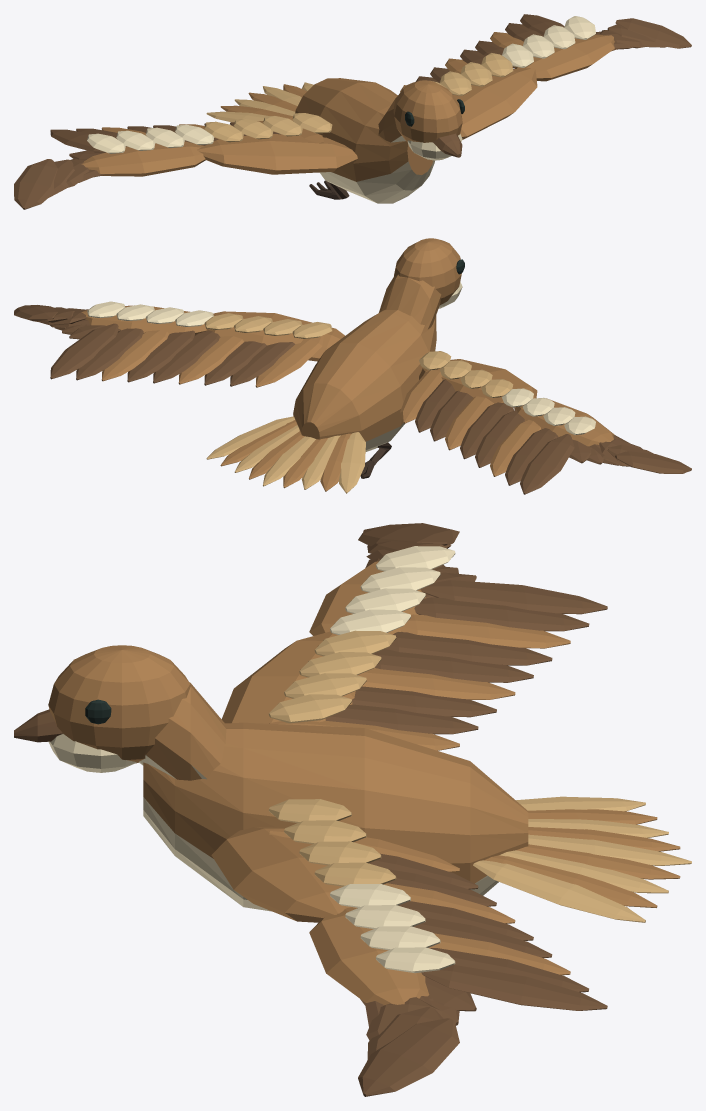
The model's file is sapeornis.glb.
3 renders of one model, top to bottom at view 1: azimuth 30°, elevation 25°; view 2: azimuth 150°, elevation 25°; view 3: azimuth 270°, elevation 25°, orthographic. The views are drawn at different scales.
Visible parts, largest first — view 1: feathered-body, left-wing-arm, head, right-wing-arm, left-wing-hand, right-wing-hand, left-primary-6, right-primary-6, left-secondary-8, neck, left-covert-0, left-covert-1 (+27 smaller); view 2: feathered-body, head, neck, left-secondary-8, right-wing-arm, right-secondary-8, right-secondary-0, right-secondary-7, right-secondary-4, right-secondary-5, right-secondary-6, left-wing-hand (+40 smaller); view 3: feathered-body, head, right-wing-arm, right-wing-hand, neck, right-primary-6, left-wing-arm, right-secondary-8, left-secondary-8, tail-fan-8, left-secondary-7, left-secondary-6 (+45 smaller).
Part boxes in pixels (x1,y1,x2,y2): feathered-body: (295, 78, 434, 203); left-wing-arm: (197, 134, 357, 174); head: (393, 80, 462, 142); right-wing-arm: (453, 67, 537, 139); left-wing-hand: (81, 141, 205, 176); right-wing-hand: (514, 34, 614, 81); left-primary-6: (14, 159, 57, 209); right-primary-6: (615, 18, 691, 48); left-secondary-8: (50, 129, 105, 152); neck: (378, 98, 405, 142); left-covert-0: (292, 113, 332, 133); left-covert-1: (263, 116, 302, 136); feathered-body: (293, 309, 436, 451); head: (394, 238, 461, 304); neck: (379, 274, 441, 329); left-secondary-8: (520, 434, 574, 494); right-wing-arm: (206, 311, 344, 361); right-secondary-8: (50, 323, 118, 379); right-secondary-0: (255, 335, 323, 387); right-secondary-7: (76, 328, 143, 380); right-secondary-4: (153, 330, 219, 383); right-secondary-5: (127, 330, 195, 382); right-secondary-6: (101, 330, 168, 381); left-wing-hand: (514, 398, 614, 446); feathered-body: (143, 722, 528, 911); head: (48, 645, 190, 763); right-wing-arm: (211, 827, 357, 922); right-wing-hand: (309, 907, 429, 1005); neck: (138, 682, 226, 780); right-primary-6: (358, 1018, 459, 1096); left-wing-arm: (221, 631, 358, 723); right-secondary-8: (421, 965, 607, 1010); left-secondary-8: (420, 580, 607, 614); tail-fan-8: (473, 860, 645, 922); left-secondary-7: (414, 597, 589, 631); left-secondary-6: (400, 614, 570, 648).
Bounding box in the file's own units: 0.8874 × 0.211 × 0.4499.
